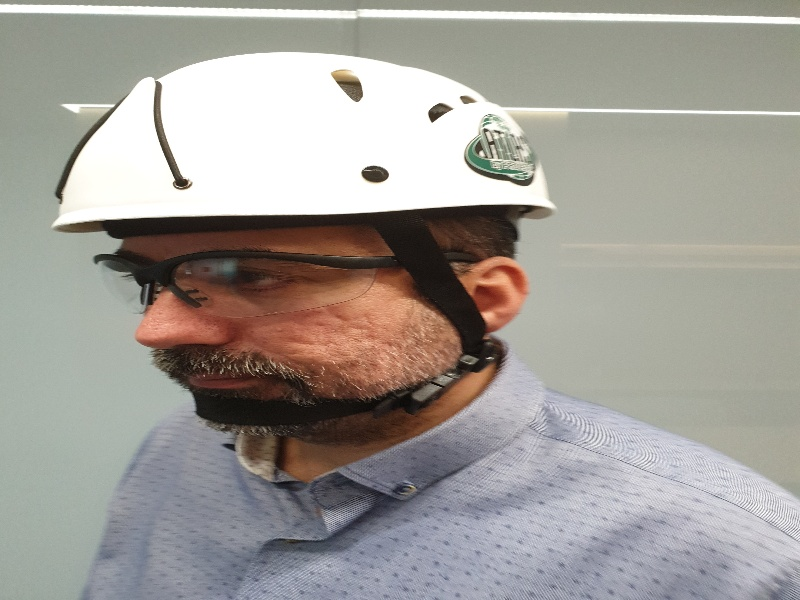Baret: (52, 51, 556, 228)
Gozluk: (91, 246, 479, 312)
